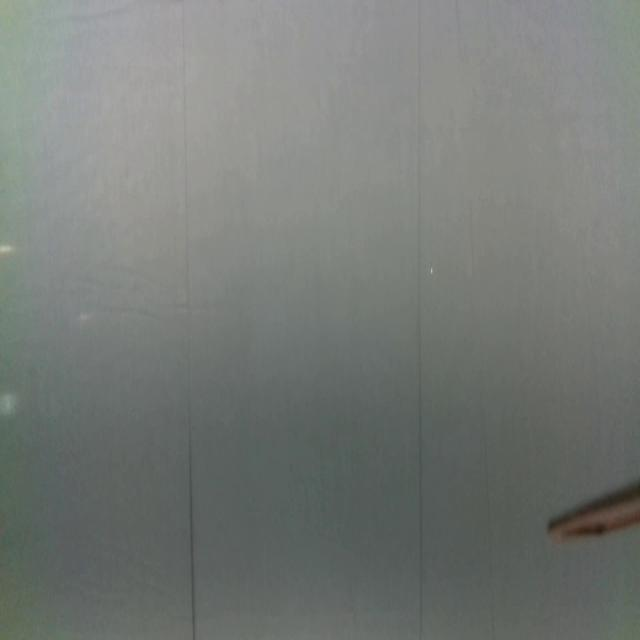crease: (180, 0, 196, 640), (416, 0, 424, 640)
hole: (429, 266, 435, 275)
